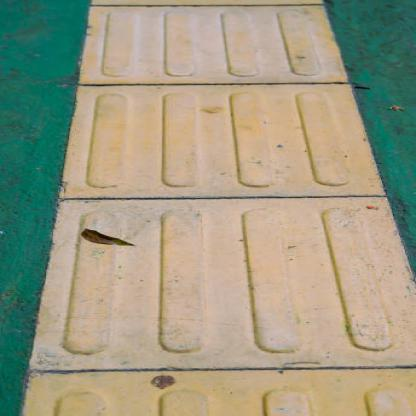podotacti: (24, 0, 412, 414)
